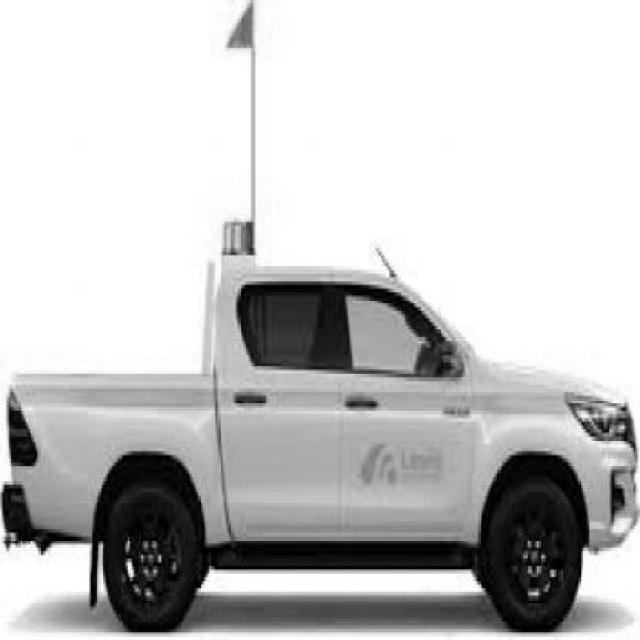Pickup: (0, 254, 640, 634)
